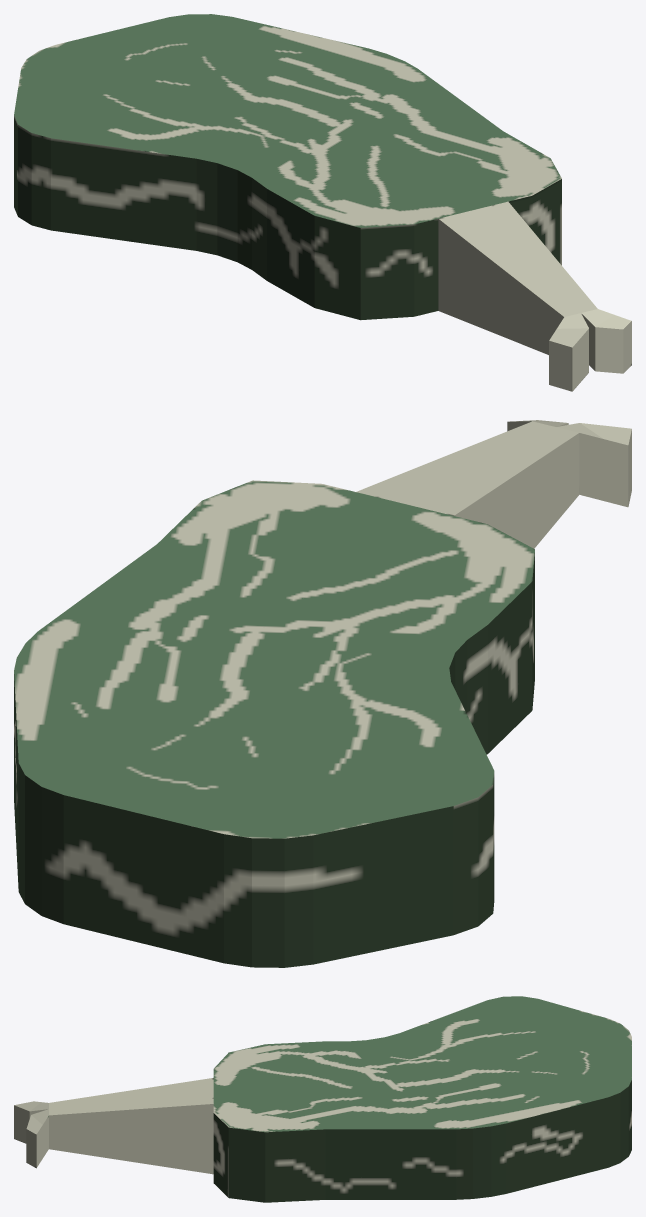
Rendered from MEAT.glb.
The picture shows the model from 3 angles, top to bottom: view 1: azimuth 30°, elevation 25°; view 2: azimuth 150°, elevation 25°; view 3: azimuth 270°, elevation 25°; orthographic projection. The views are drawn at different scales.
Parts seen in each view (by area): view 1: Cube; view 2: Cube; view 3: Cube.
Part boxes in pixels (bbox=[...]): Cube: bbox=[14, 14, 631, 391]; Cube: bbox=[14, 420, 631, 967]; Cube: bbox=[14, 996, 631, 1202].
Bounding box in the file's own units: 0.4956 × 0.1196 × 0.9509.
Materials: 1 (1 with a texture image).
